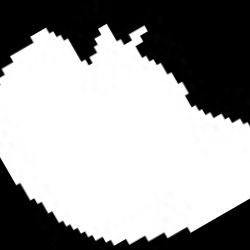spot: (1, 25, 249, 246)
